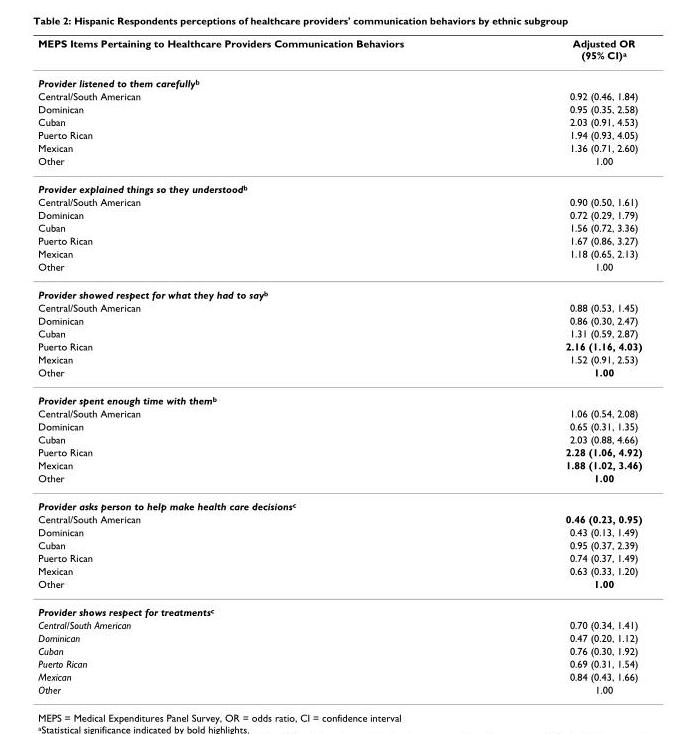table: (37, 36, 641, 695)
table column: (37, 36, 483, 695), (483, 36, 641, 695)
table column header: (37, 36, 641, 68)
table projected row header: (37, 68, 641, 89), (37, 174, 641, 195), (37, 491, 641, 512), (37, 597, 641, 618), (37, 280, 641, 300), (37, 386, 641, 406)
table row: (37, 36, 641, 68), (37, 68, 641, 89), (37, 174, 641, 195), (37, 259, 641, 280), (37, 365, 641, 386), (37, 491, 641, 512), (37, 576, 641, 597), (37, 597, 641, 618), (37, 154, 641, 174), (37, 280, 641, 300), (37, 386, 641, 406), (37, 471, 641, 491), (37, 89, 641, 102), (37, 102, 641, 115), (37, 115, 641, 128), (37, 128, 641, 141), (37, 141, 641, 154), (37, 195, 641, 208), (37, 220, 641, 233), (37, 233, 641, 246), (37, 246, 641, 259), (37, 300, 641, 313), (37, 313, 641, 326), (37, 326, 641, 339), (37, 339, 641, 352), (37, 352, 641, 365), (37, 406, 641, 419), (37, 419, 641, 432), (37, 432, 641, 445), (37, 445, 641, 458), (37, 458, 641, 471), (37, 512, 641, 525), (37, 525, 641, 538), (37, 538, 641, 551), (37, 551, 641, 564), (37, 618, 641, 631), (37, 643, 641, 656), (37, 656, 641, 669), (37, 669, 641, 682), (37, 682, 641, 695), (37, 208, 641, 220), (37, 564, 641, 576), (37, 631, 641, 643)
